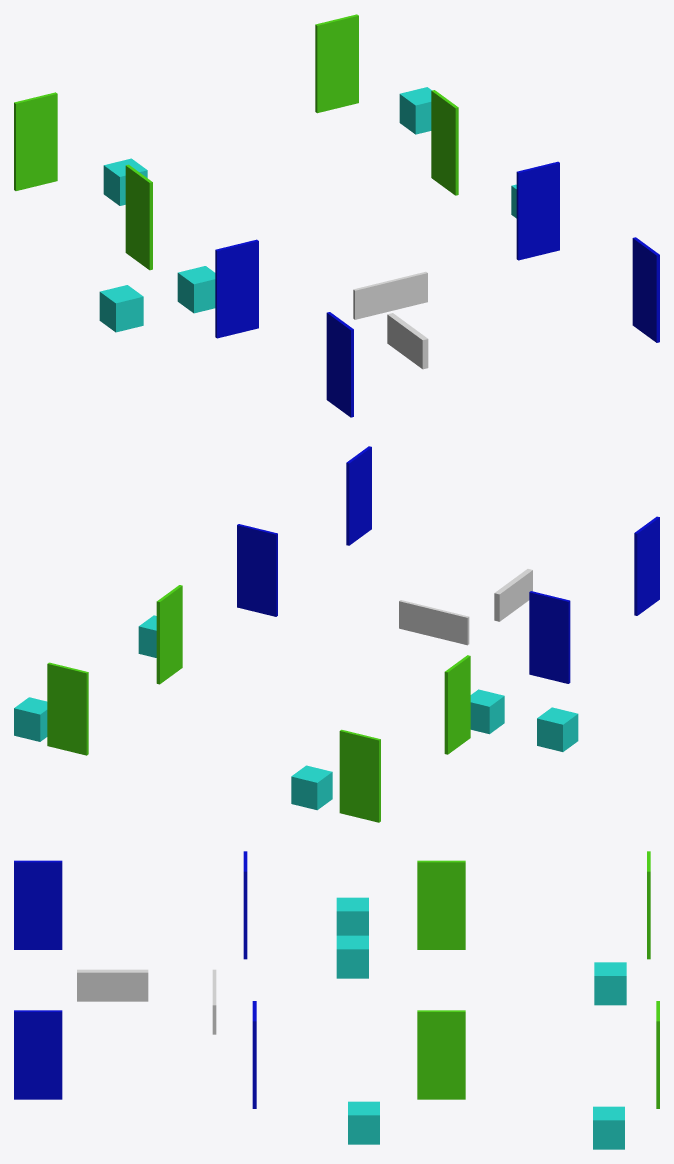
File: func.glb
The picture shows the model from 3 angles, top to bottom: view 1: azimuth 30°, elevation 25°; view 2: azimuth 150°, elevation 25°; view 3: azimuth 270°, elevation 25°; orthographic projection. The views are drawn at different scales.
Visible parts, largest first — view 1: sld_2002, sdor_2, ssdor_2, dor_2, ssdor_1, dor_1, sld_1001, sdor_1, sdor_5, swt_5_dor_1, swt_1_dor_1, sdor_4 (+2 smaller); view 2: dor_2, sld_2002, sdor_2, ssdor_2, sld_1001, dor_1, ssdor_1, sdor_1, sdor_5, swt_2_dor_2, swt_5_dor_1, swt_1_dor_1 (+3 smaller); view 3: dor_1, sld_1001, ssdor_1, sdor_1, sdor_4, swt_2_dor_2, swt_1_dor_1, swt_3_sld_1001, swt_4_sld_2002, swt_5_dor_1, sdor_2, ssdor_2.
Boxes of the visible parts, box(x1,y1,x2,y2) form: sld_2002: box(315, 14, 358, 113); sdor_2: box(215, 239, 258, 338); ssdor_2: box(516, 161, 559, 260); dor_2: box(14, 92, 57, 190); ssdor_1: box(632, 237, 659, 342); dor_1: box(125, 164, 152, 270); sld_1001: box(431, 90, 458, 195); sdor_1: box(326, 312, 353, 417); sdor_5: box(353, 271, 427, 319); swt_5_dor_1: box(99, 285, 143, 332); swt_1_dor_1: box(177, 266, 215, 313); sdor_4: box(387, 313, 428, 369); dor_2: box(339, 729, 380, 822); sld_2002: box(47, 662, 88, 755); sdor_2: box(529, 591, 570, 683); ssdor_2: box(237, 524, 277, 616); sld_1001: box(156, 585, 182, 684); dor_1: box(444, 655, 470, 754); ssdor_1: box(346, 446, 371, 545); sdor_1: box(634, 516, 659, 615); sdor_5: box(399, 600, 469, 645); swt_2_dor_2: box(291, 765, 332, 810); swt_5_dor_1: box(537, 707, 578, 751); swt_1_dor_1: box(470, 689, 504, 734); dor_1: box(417, 860, 465, 949); sld_1001: box(417, 1010, 465, 1099); ssdor_1: box(14, 1010, 62, 1099); sdor_1: box(14, 860, 62, 949); sdor_4: box(77, 969, 148, 1001); swt_2_dor_2: box(594, 962, 626, 1005); swt_1_dor_1: box(336, 935, 368, 978); swt_3_sld_1001: box(348, 1101, 379, 1144); swt_4_sld_2002: box(593, 1106, 624, 1149); swt_5_dor_1: box(336, 897, 368, 935); sdor_2: box(243, 851, 247, 959); ssdor_2: box(252, 1001, 256, 1108).
Size of the model in its own units: 32.71 by 7 by 40.08.
